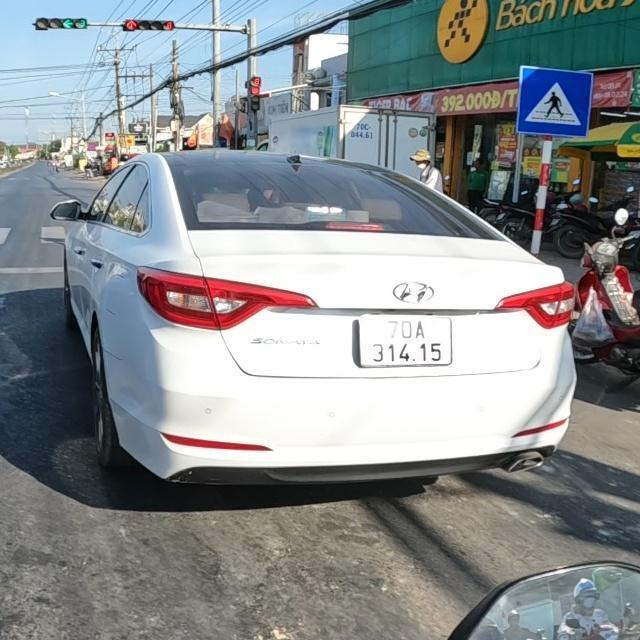car: (54, 147, 582, 504)
motorcycle: (573, 206, 640, 379)
plate: (346, 298, 462, 376)
